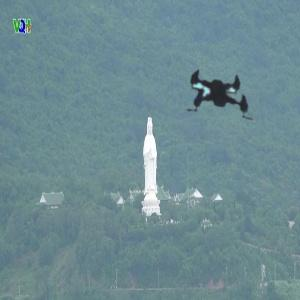drone: (156, 32, 282, 158)
